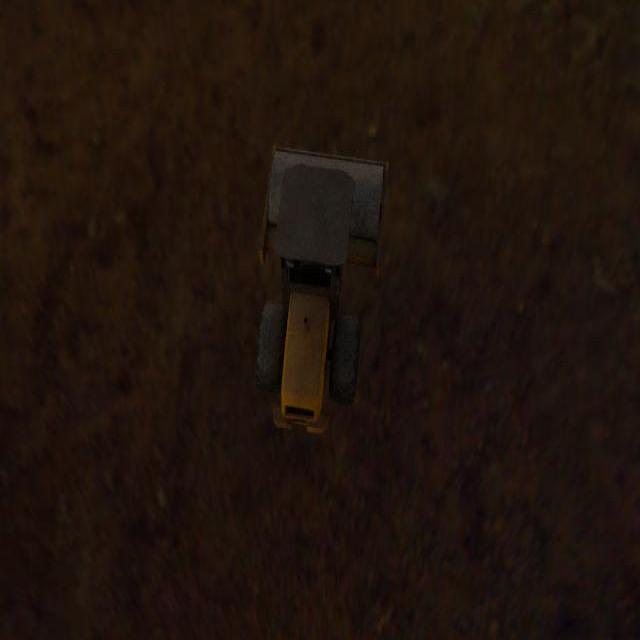Roller: (256, 144, 389, 435)
